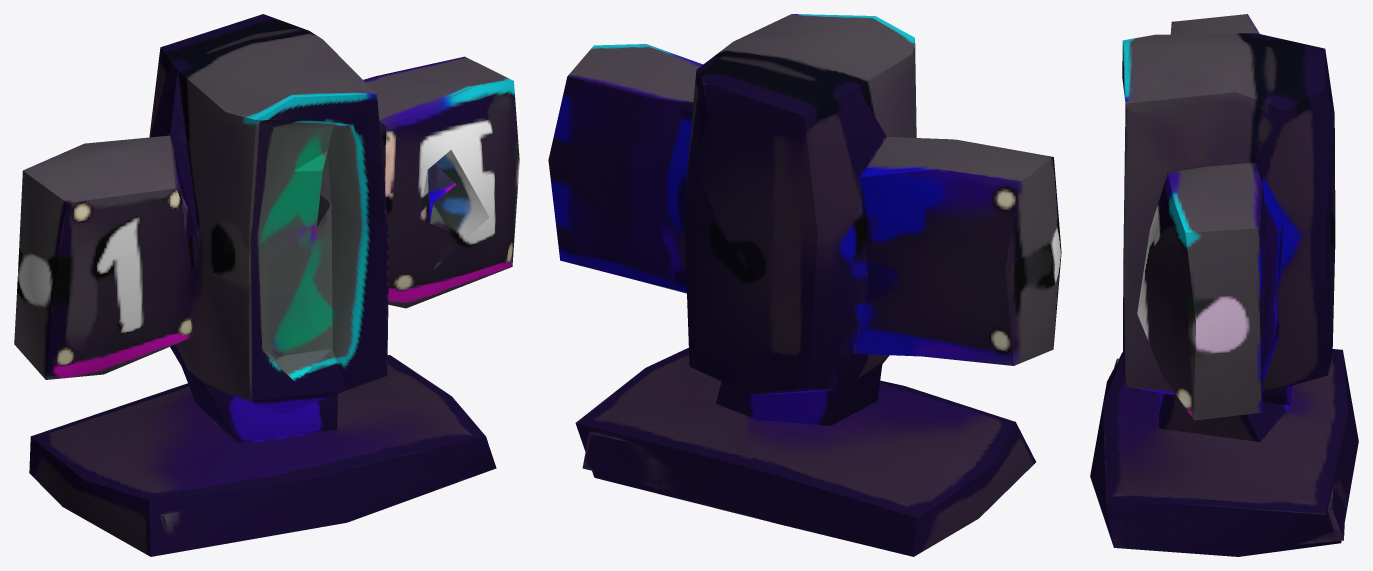
Rendered from neon-flip-clock.glb.
The picture shows the model from 3 angles, left to right: view 1: azimuth 30°, elevation 25°; view 2: azimuth 150°, elevation 25°; view 3: azimuth 270°, elevation 25°; orthographic projection. The views are drawn at different scales.
Parts seen in each view (by area): view 1: geometry_0; view 2: geometry_0; view 3: geometry_0.
Part boxes in pixels (x1,y1,x2,y2): geometry_0: (14,14,519,556); geometry_0: (548,14,1061,556); geometry_0: (1090,14,1358,556).
Size of the model in its own units: 1 by 0.837 by 0.4842.
Materials: 1 (1 with a texture image).
